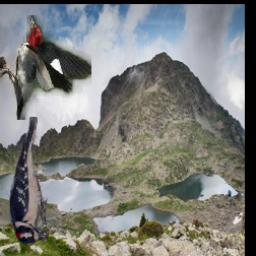Woodpecker: (0, 16, 91, 121), (8, 117, 50, 247)
